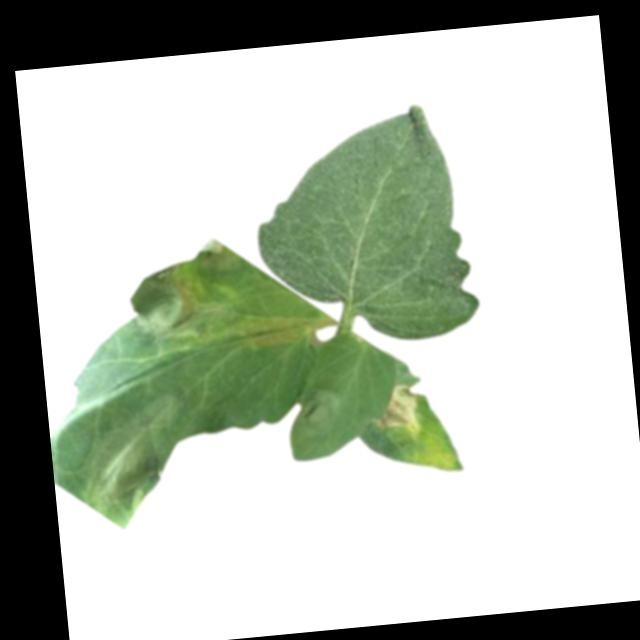Late_blight: (78, 396, 187, 504), (126, 258, 235, 346), (364, 382, 422, 441), (295, 387, 342, 436), (195, 235, 245, 277)
healthy: (244, 94, 482, 353)
